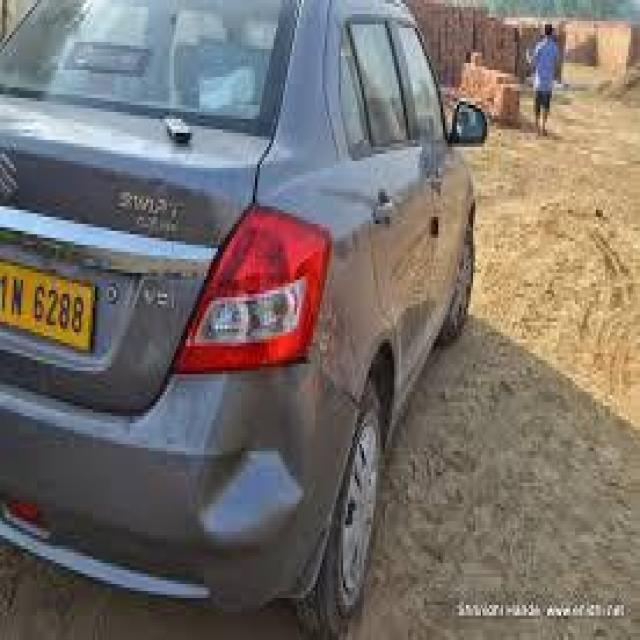damaged: (195, 364, 311, 546)
